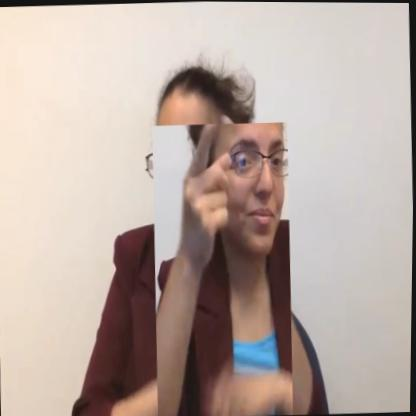HowAreYou: (149, 121, 298, 416)
